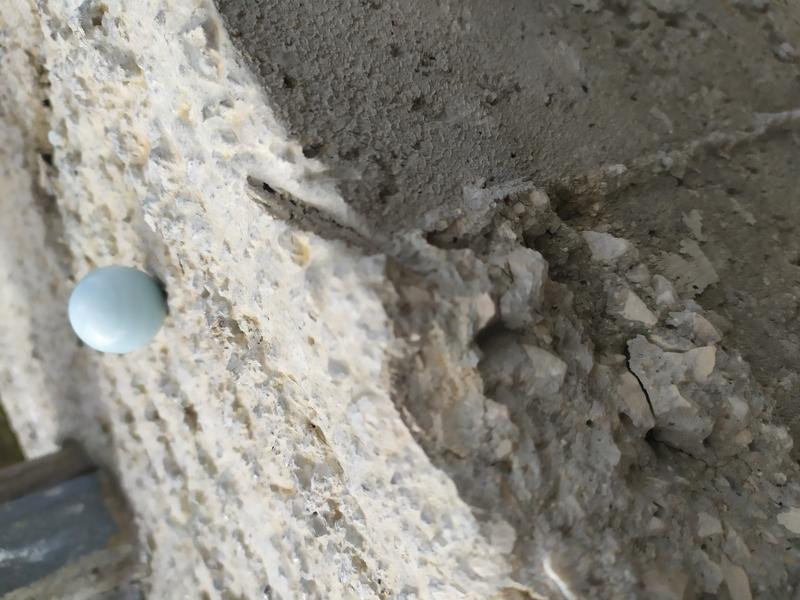Warning: (65, 263, 170, 355)
